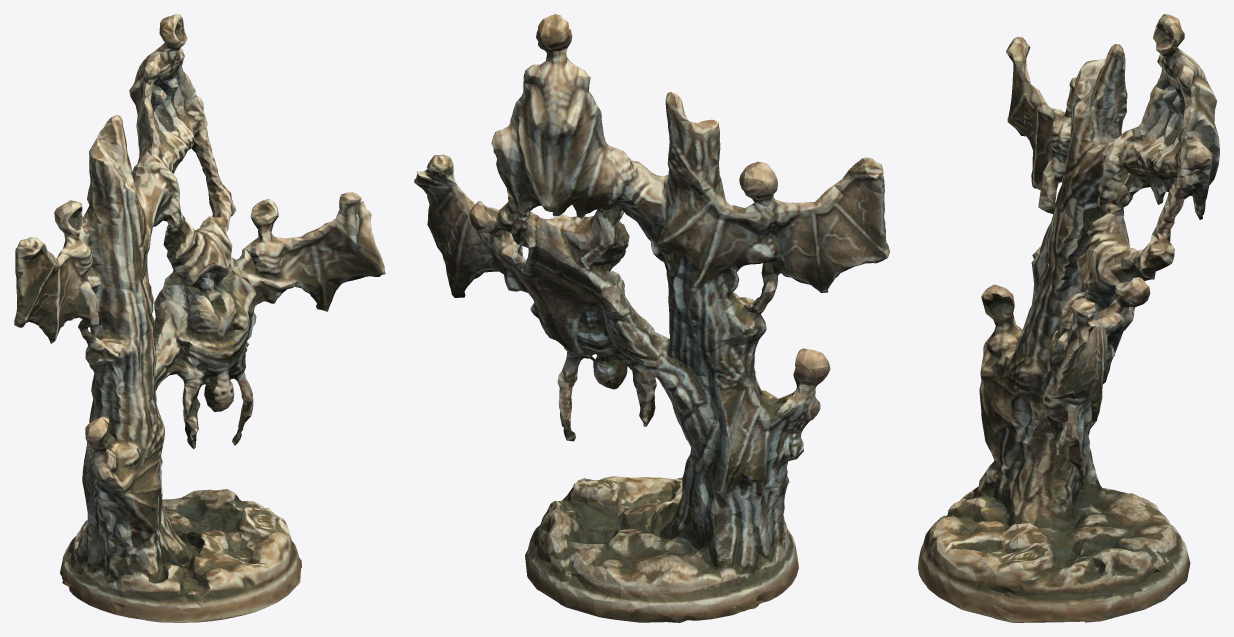
The model's file is fuathan.glb.
3 renders of one model, left to right at view 1: azimuth 30°, elevation 25°; view 2: azimuth 150°, elevation 25°; view 3: azimuth 270°, elevation 25°, orthographic. The views are drawn at different scales.
Visible parts, largest first — view 1: geometry_0; view 2: geometry_0; view 3: geometry_0.
Boxes of the visible parts, bbox=[...] form: geometry_0: bbox=[14, 14, 385, 622]; geometry_0: bbox=[414, 14, 889, 622]; geometry_0: bbox=[918, 14, 1219, 622].
Size of the model in its own units: 0.029 by 0.0365 by 0.0174.
Materials: 1 (1 with a texture image).
